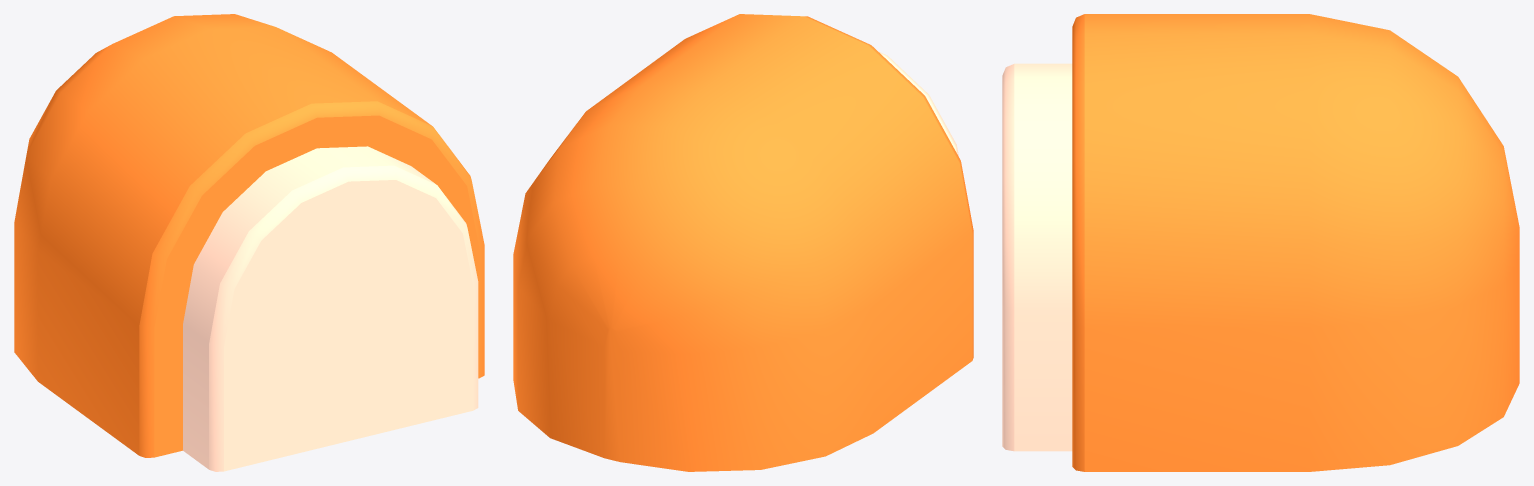
File: Tunnel.fbx
3 renders of one model, left to right at view 1: azimuth 30°, elevation 25°; view 2: azimuth 150°, elevation 25°; view 3: azimuth 270°, elevation 25°, orthographic. The views are drawn at different scales.
Visible parts, largest first — view 1: Tunnel; view 2: Tunnel; view 3: Tunnel.
Boxes of the visible parts, x1=… form: Tunnel: x1=14, y1=14, x2=484, y2=471; Tunnel: x1=513, y1=14, x2=973, y2=471; Tunnel: x1=1002, y1=14, x2=1519, y2=471.
Size of the model in its own units: 2.54 by 2.18 by 2.98.
